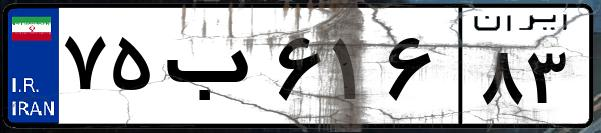1: (330, 28, 385, 110)
3: (525, 38, 570, 115)
5: (110, 28, 158, 98)
6: (270, 28, 330, 110), (385, 28, 445, 110)
7: (57, 26, 110, 100)
8: (475, 38, 525, 113)
ب: (158, 20, 270, 120)
